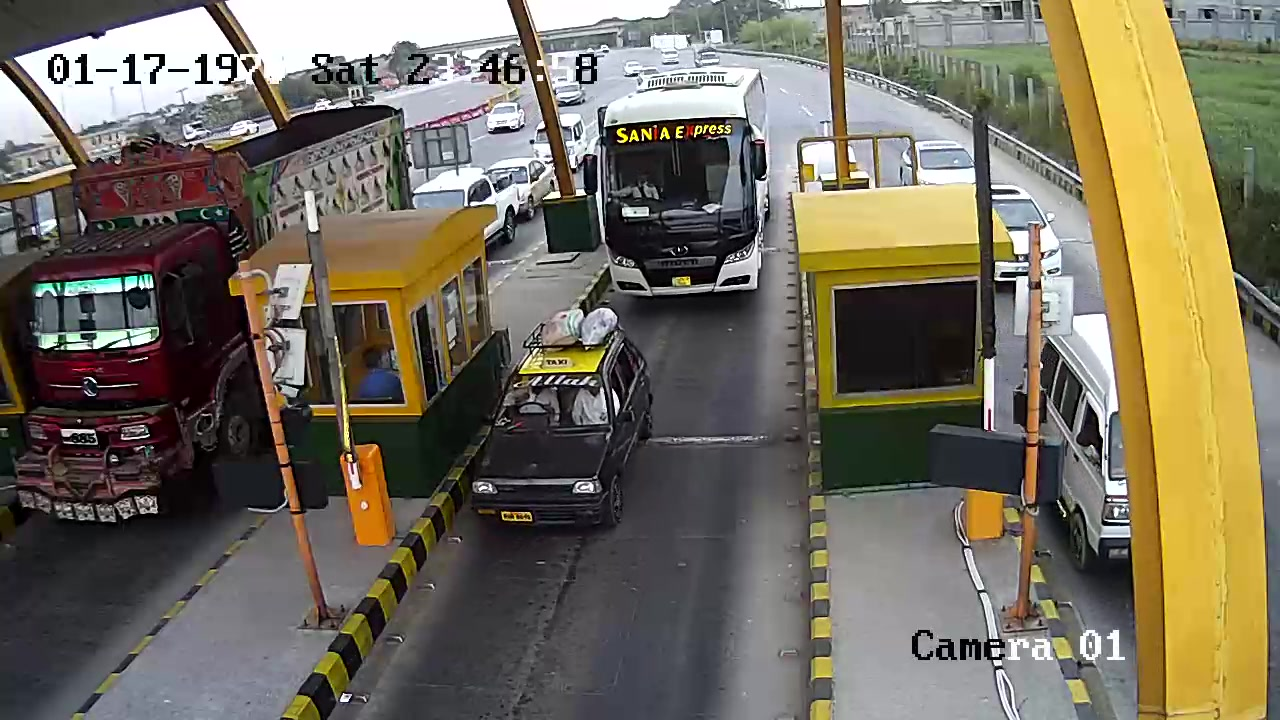F1: (462, 310, 663, 541)
F4: (595, 62, 770, 302)
